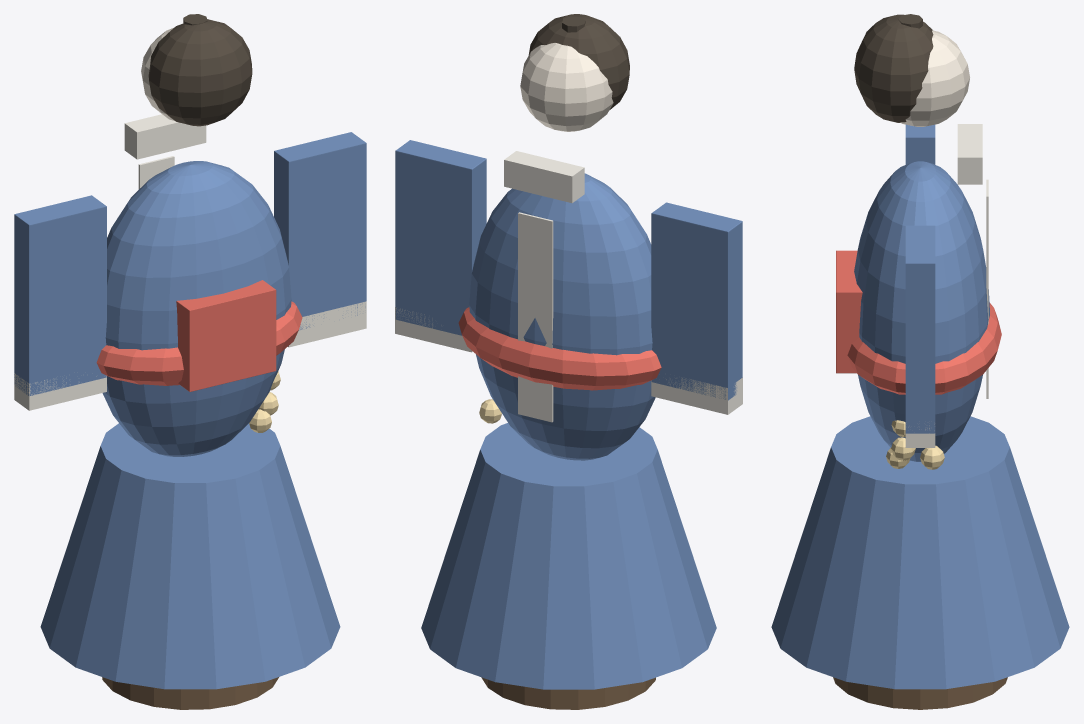
File: kimono_mannequin.glb
3 renders of one model, left to right at view 1: azimuth 30°, elevation 25°; view 2: azimuth 150°, elevation 25°; view 3: azimuth 270°, elevation 25°, orthographic.
Parts seen in each view (by area): view 1: kimono_mannequin; view 2: kimono_mannequin; view 3: kimono_mannequin.
Part boxes in pixels (box(x1,y1,x2,y2)): kimono_mannequin: box(14, 14, 366, 709); kimono_mannequin: box(395, 14, 742, 709); kimono_mannequin: box(771, 14, 1069, 709).
Bounding box in the file's own units: 0.78 × 1.45 × 0.6.
